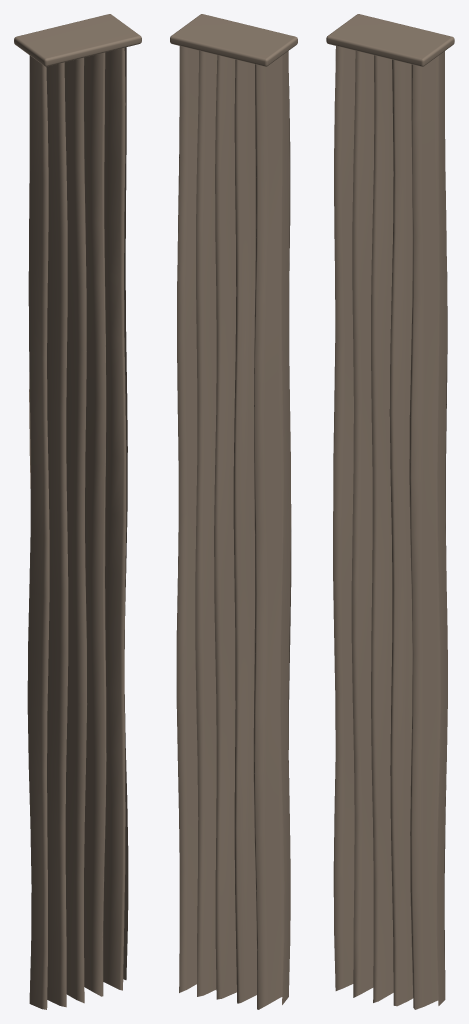
Rendered from curtains_v06a.glb.
The picture shows the model from 3 angles, left to right: view 1: azimuth 30°, elevation 25°; view 2: azimuth 150°, elevation 25°; view 3: azimuth 330°, elevation 25°; orthographic projection.
Visible parts, largest first — view 1: VIS_CurtainLeftFoldedLinen, VIS_CurtainLeftGatheredHeader; view 2: VIS_CurtainLeftFoldedLinen, VIS_CurtainLeftGatheredHeader; view 3: VIS_CurtainLeftFoldedLinen, VIS_CurtainLeftGatheredHeader.
Part boxes in pixels (left/top/right/bottom): VIS_CurtainLeftFoldedLinen: left=27, top=47, right=128, bottom=1009; VIS_CurtainLeftGatheredHeader: left=14, top=14, right=141, bottom=66; VIS_CurtainLeftFoldedLinen: left=176, top=46, right=291, bottom=1009; VIS_CurtainLeftGatheredHeader: left=170, top=14, right=297, bottom=66; VIS_CurtainLeftFoldedLinen: left=333, top=46, right=447, bottom=1009; VIS_CurtainLeftGatheredHeader: left=326, top=14, right=454, bottom=66.
Bounding box in the file's own units: 0.3 × 2.81 × 0.17.
